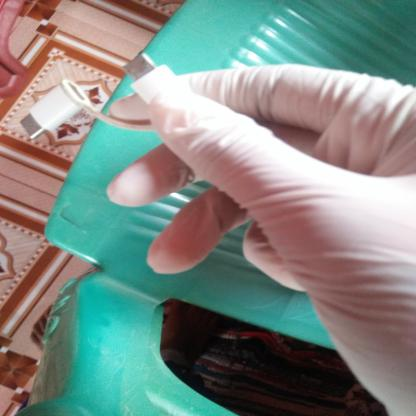gloved_hand: (100, 47, 413, 410)
